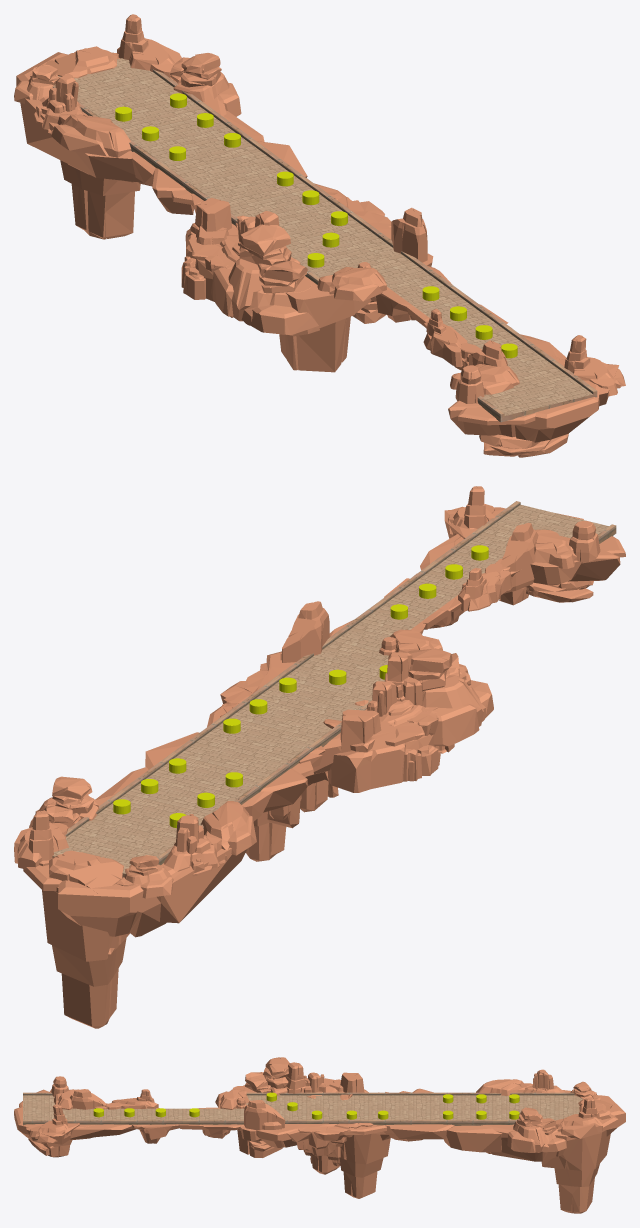
The model's file is road_8_block_E.fbx.
3 renders of one model, top to bottom at view 1: azimuth 30°, elevation 25°; view 2: azimuth 150°, elevation 25°; view 3: azimuth 270°, elevation 25°, orthographic. The views are drawn at different scales.
Visible parts, largest first — view 1: road_8_block_E_standie, road_8_block_E; view 2: road_8_block_E_standie, road_8_block_E; view 3: road_8_block_E_standie, road_8_block_E.
Boxes of the visible parts, x1,y1,x2,y2 form: road_8_block_E_standie: (14, 14, 625, 457); road_8_block_E: (53, 58, 597, 422); road_8_block_E_standie: (14, 486, 625, 1028); road_8_block_E: (52, 501, 616, 877); road_8_block_E_standie: (14, 1057, 625, 1213); road_8_block_E: (23, 1092, 582, 1125).
Bounding box in the file's own units: 2164 × 1924 × 8591.
